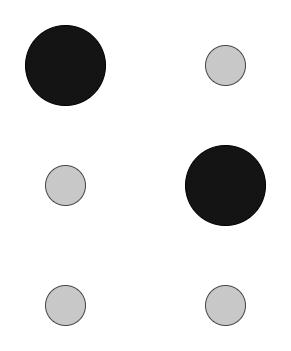E: (18, 18, 271, 336)
